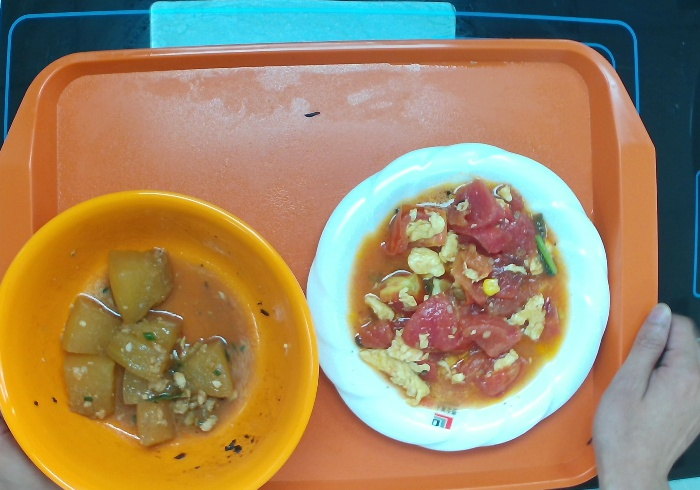ZNLD-Hua_Bian_Wan: (307, 142, 609, 454)
ZNLD-Ju_Se_Tang_Wan: (7, 188, 324, 490)
